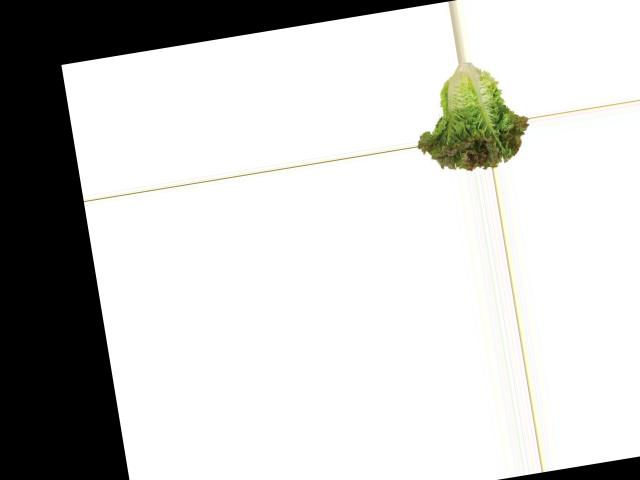lettuce: (405, 53, 533, 178)
